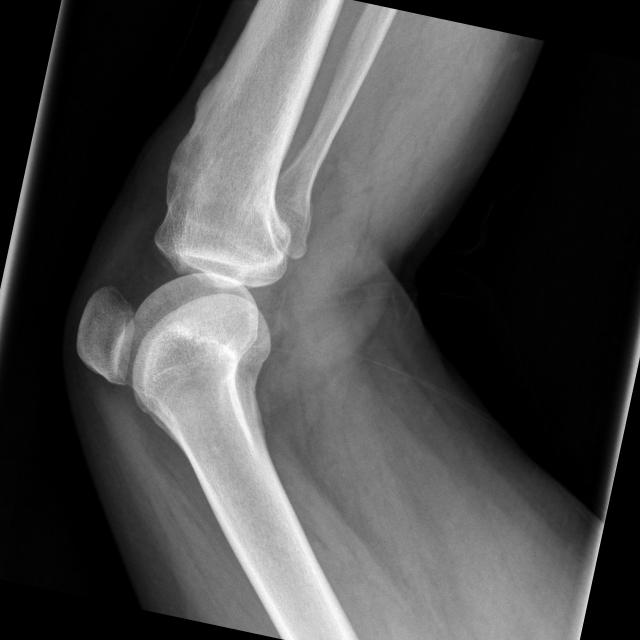Knee: (67, 162, 320, 422)
